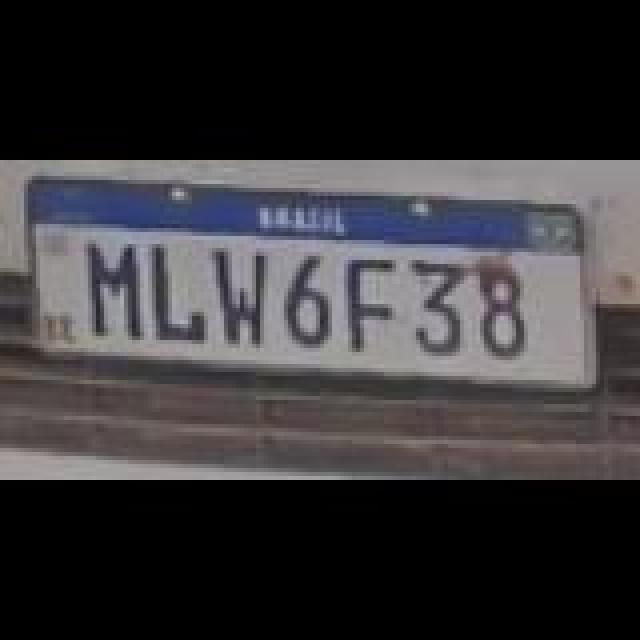3: (406, 260, 474, 356)
6: (278, 252, 346, 348)
8: (466, 266, 534, 358)
F: (338, 256, 406, 352)
L: (142, 242, 218, 342)
M: (76, 240, 156, 344)
W: (208, 250, 280, 350)
